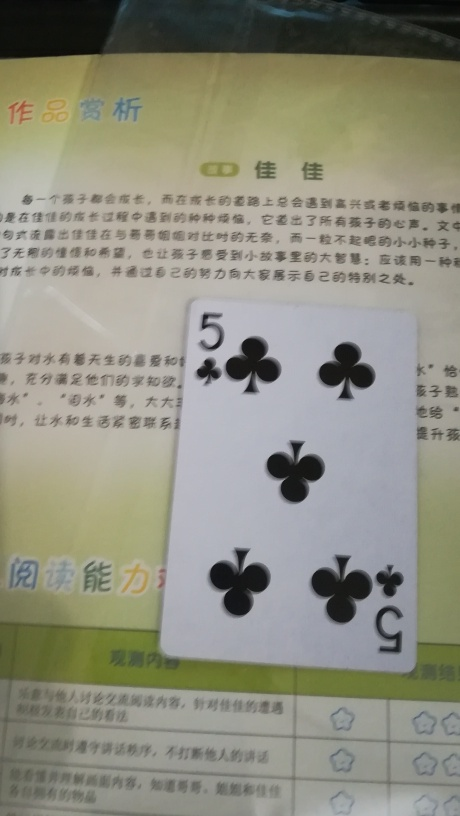mh 5: (159, 292, 417, 675)
